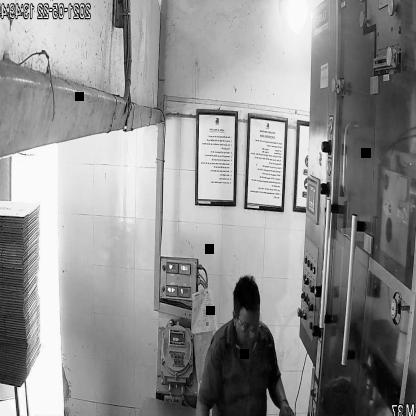goggles: (233, 313, 262, 339)
